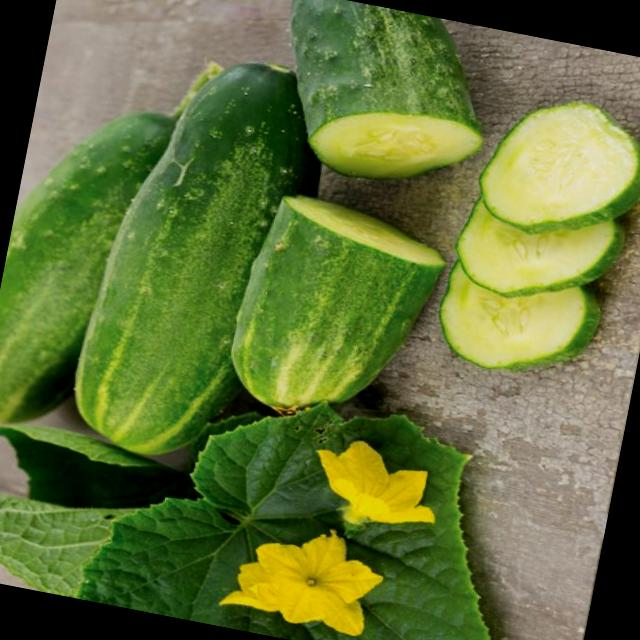Cucumber: (66, 41, 330, 471), (0, 81, 179, 443), (221, 190, 448, 432), (259, 0, 504, 195)
